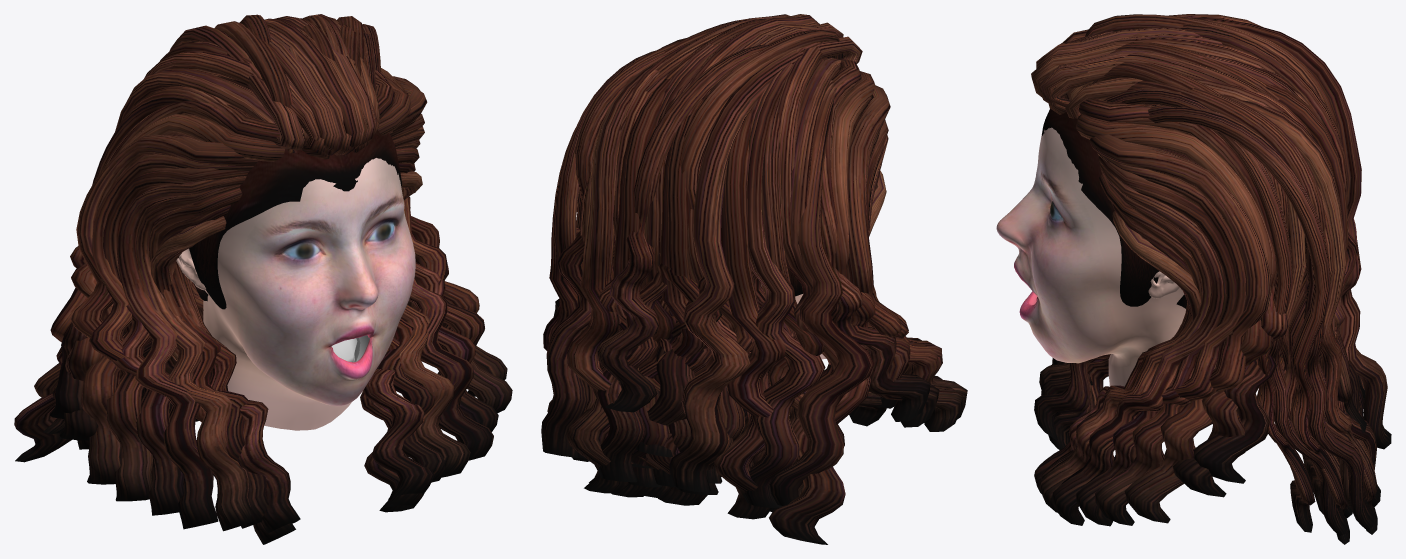
Rendered from big_aah.obj.
3 views of the same model, side by side, from view 1: azimuth 30°, elevation 25°; view 2: azimuth 150°, elevation 25°; view 3: azimuth 270°, elevation 25° (orthographic). The views are drawn at different scales.
Visible parts, largest first — view 1: big_aah; view 2: big_aah; view 3: big_aah.
Part boxes in pixels (box(x1,y1,x2,y2)): big_aah: box(14, 14, 512, 544); big_aah: box(541, 14, 967, 544); big_aah: box(996, 14, 1391, 544).
Size of the model in its own units: 365 by 387 by 298.
